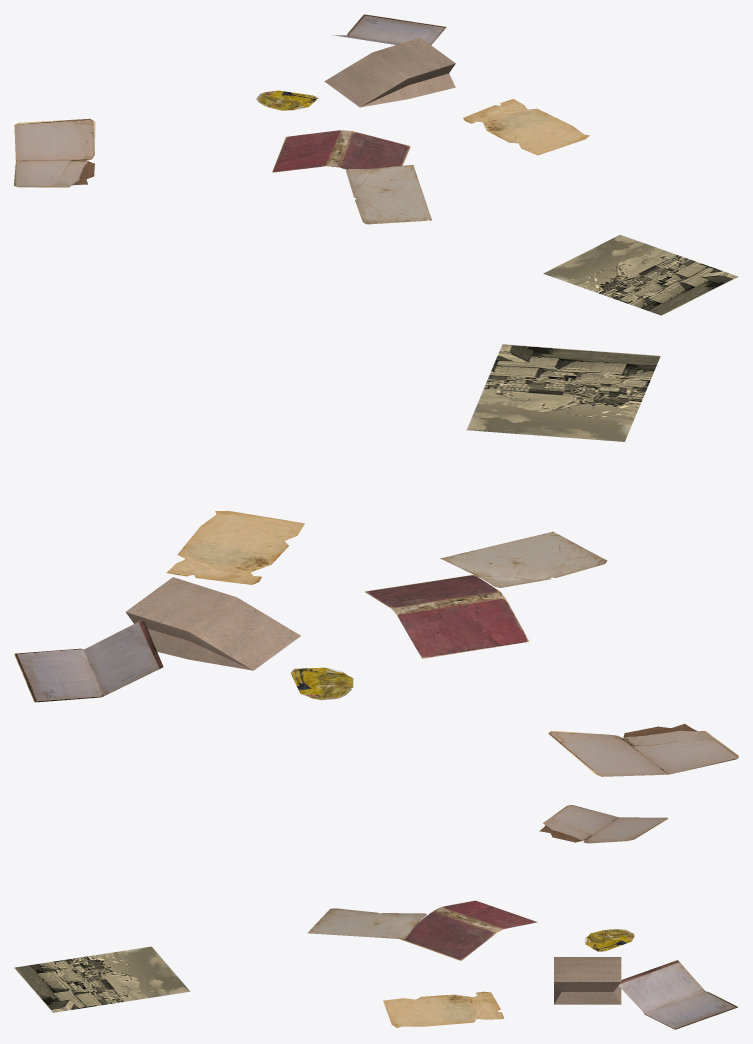
Rendered from Prop_Paper1.glb.
The picture shows the model from 3 angles, top to bottom: view 1: azimuth 30°, elevation 25°; view 2: azimuth 150°, elevation 25°; view 3: azimuth 270°, elevation 25°; orthographic projection. The views are drawn at different scales.
Visible parts, largest first — view 1: xiutz_paper1; view 2: xiutz_paper1; view 3: xiutz_paper1.
Boxes of the visible parts, x1=… form: xiutz_paper1: x1=14, y1=14, x2=738, y2=315; xiutz_paper1: x1=14, y1=344, x2=738, y2=776; xiutz_paper1: x1=14, y1=805, x2=738, y2=1029.
Size of the model in its own units: 2.61 by 0.1233 by 3.55.
1 material, 1 textured.
